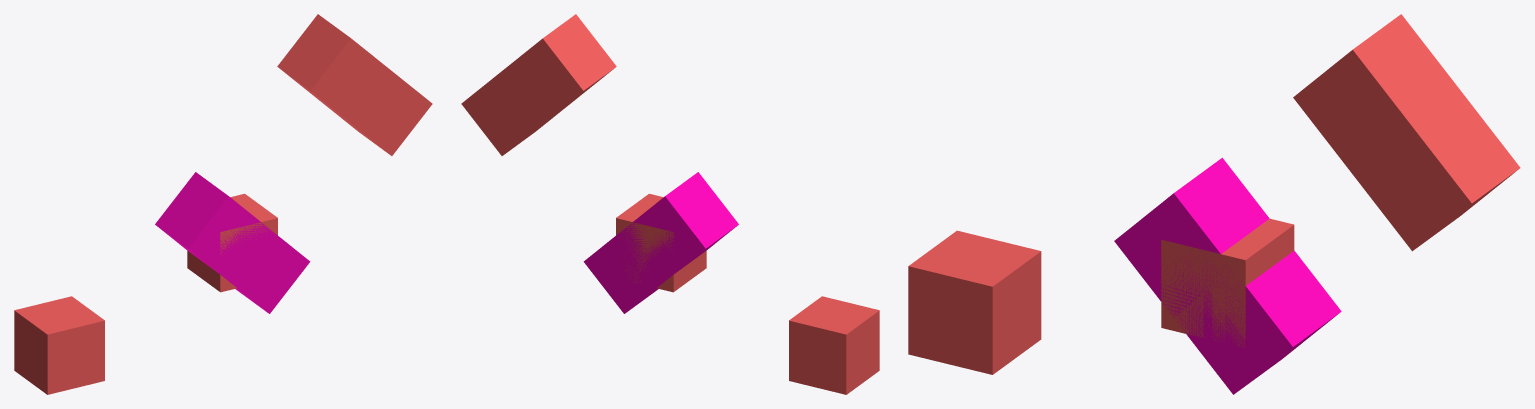
File: gltf-hierarchy.gltf
3 renders of one model, left to right at view 1: azimuth 30°, elevation 25°; view 2: azimuth 150°, elevation 25°; view 3: azimuth 330°, elevation 25°, orthographic. The views are drawn at different scales.
Visible parts, largest first — view 1: Tip, Arm, object 4, Base; view 2: Tip, Arm, object 4, Base; view 3: Tip, Arm, object 4, Base.
Boxes of the visible parts, x1,y1,x2,y2 form: Tip: [277, 14, 432, 155]; Arm: [155, 172, 310, 313]; object 4: [14, 296, 104, 394]; Base: [187, 193, 277, 292]; Tip: [461, 14, 616, 155]; Arm: [583, 172, 738, 313]; object 4: [789, 296, 879, 394]; Base: [616, 193, 706, 292]; Tip: [1293, 14, 1520, 251]; Arm: [1114, 157, 1341, 394]; object 4: [908, 230, 1041, 374]; Base: [1161, 218, 1294, 347].
Size of the model in its own units: 6.68 by 4.68 by 1.
